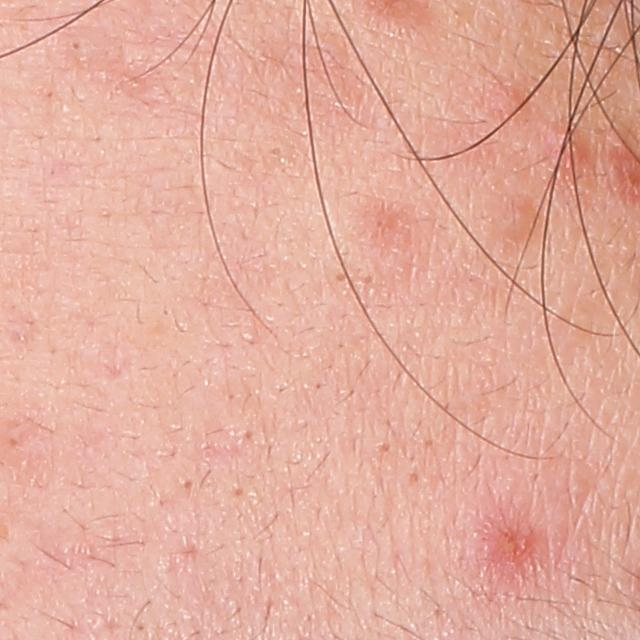comedo: (65, 34, 88, 57), (177, 475, 199, 495), (405, 468, 427, 487), (374, 439, 395, 458), (267, 142, 287, 160)
